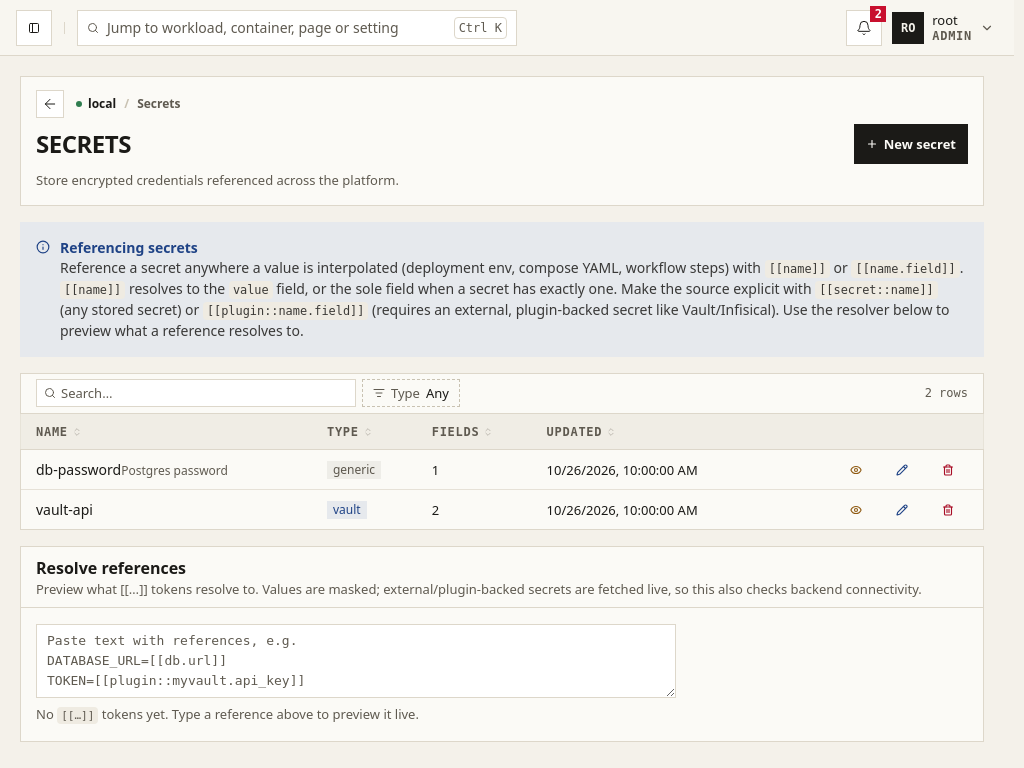
secrets page › reports a reveal failure
The image size is (1024, 768).
Step 1. Click the button named "Reveal vault-api" → x=856, y=510, box x1=836 y1=490 x2=876 y2=530
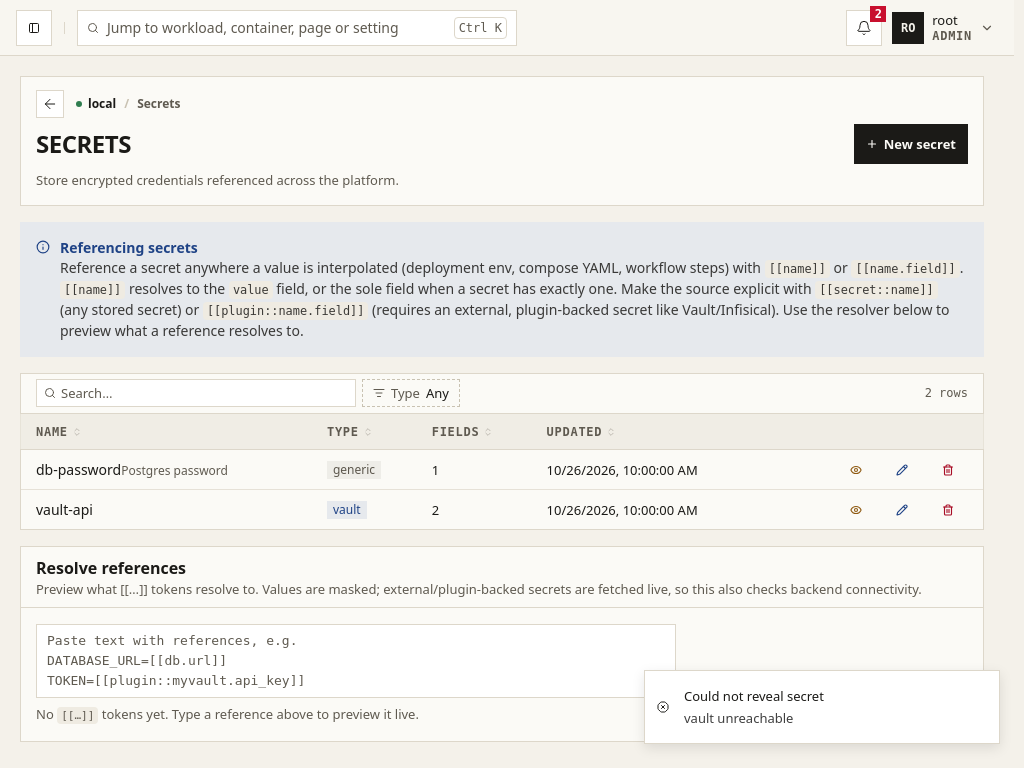
Expected: the text "vault unreachable" is shown, x1=684 y1=709 x2=793 y2=727
